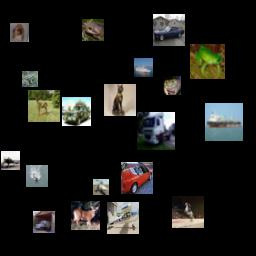airplane: (107, 202, 139, 234), (1, 151, 20, 170), (93, 179, 109, 195)
automobile: (121, 162, 153, 194), (153, 14, 185, 46), (62, 97, 91, 126)
cat: (104, 84, 136, 116)
deer: (28, 90, 60, 122), (71, 201, 100, 230)
dog: (10, 23, 29, 42)
frog: (190, 44, 225, 79), (82, 19, 104, 41), (162, 76, 181, 95), (22, 71, 38, 87)
ship: (205, 103, 243, 141), (26, 165, 48, 187), (134, 58, 153, 77)
truck: (137, 112, 175, 150), (33, 211, 55, 233)
